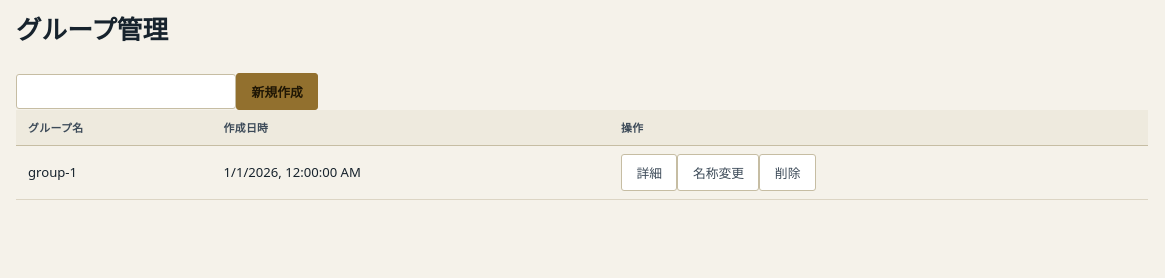
Test: GroupListPage › renames a group and shows a success toast
The width and height of the screenshot is (1165, 278).
Expected: the text "group-1" is shown, left=16, top=145, right=212, bottom=199
Step 1. Click the button with test id "group-table-rename-button" → {"x": 718, "y": 172}, box left=678, top=154, right=760, bottom=191
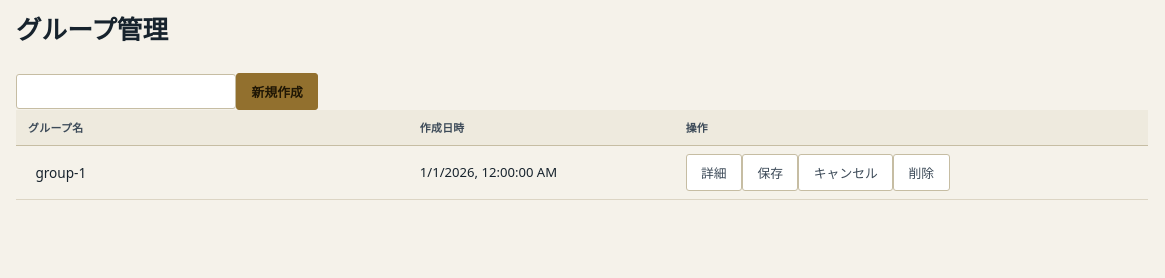
Step 2. Replace the text in the field with test id "group-table-rename-input" with "renamed-group" → {"x": 212, "y": 172}, box left=28, top=157, right=396, bottom=187
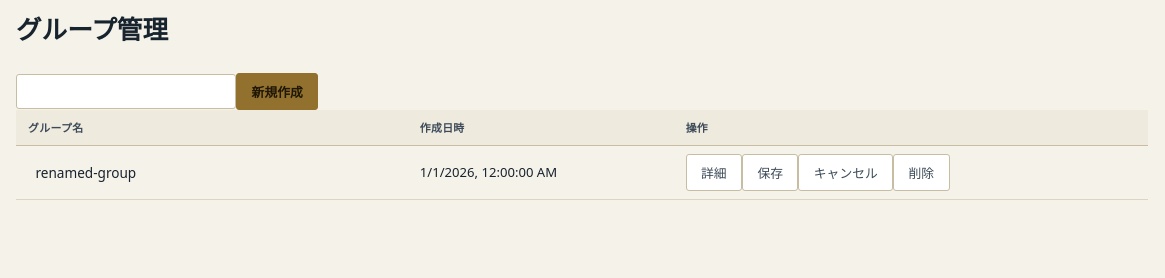
Step 3. Click the button with test id "group-table-rename-commit-button" → {"x": 770, "y": 172}, box left=742, top=154, right=798, bottom=191
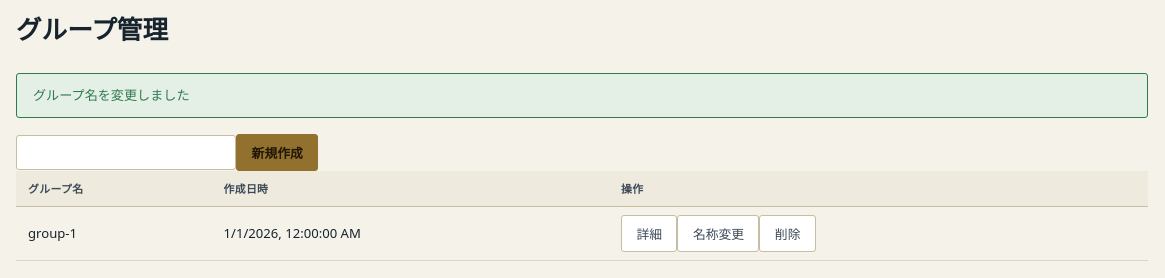
Now the message "グループ名を変更しました" is shown, box left=16, top=73, right=1148, bottom=118
